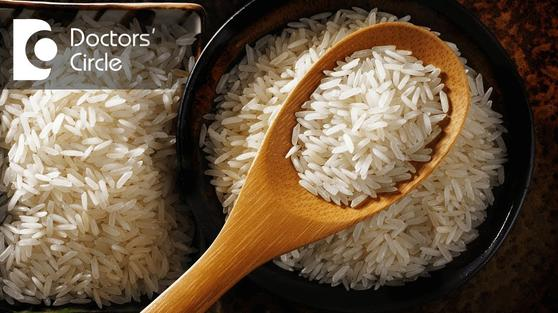rice: (301, 51, 447, 204)
